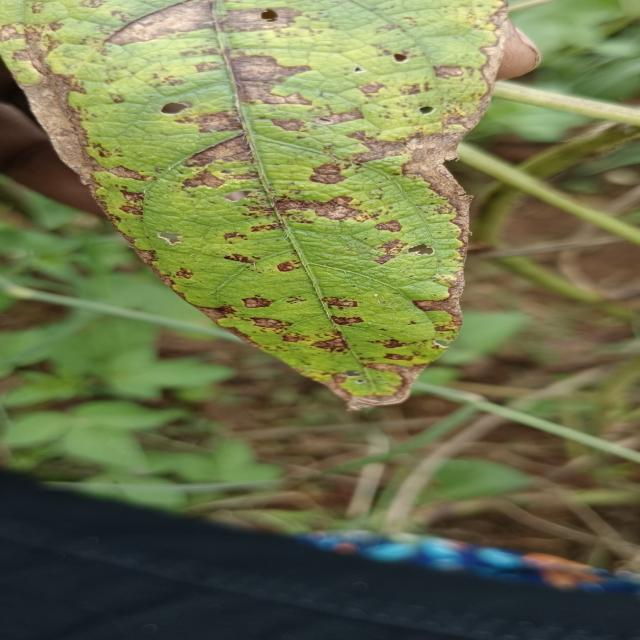Black gram_leaf spot: (0, 0, 548, 414)
